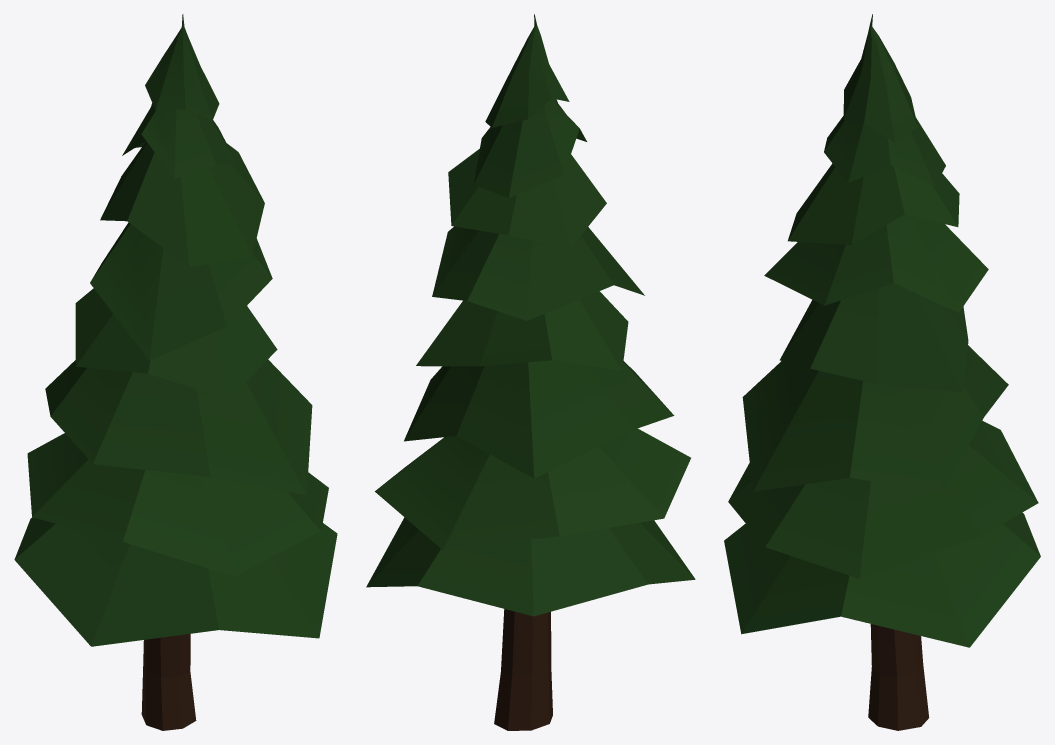
Rendered from PineTree02_EM.fbx.
3 views of the same model, side by side, from view 1: azimuth 30°, elevation 25°; view 2: azimuth 150°, elevation 25°; view 3: azimuth 270°, elevation 25° (orthographic). The views are drawn at different scales.
Parts seen in each view (by area): view 1: PineTree02_EM; view 2: PineTree02_EM; view 3: PineTree02_EM.
Boxes of the visible parts, x1,y1,x2,y2 form: PineTree02_EM: [14, 14, 337, 730]; PineTree02_EM: [366, 14, 695, 730]; PineTree02_EM: [724, 14, 1040, 730].
Size of the model in its own units: 392 by 947 by 386.
